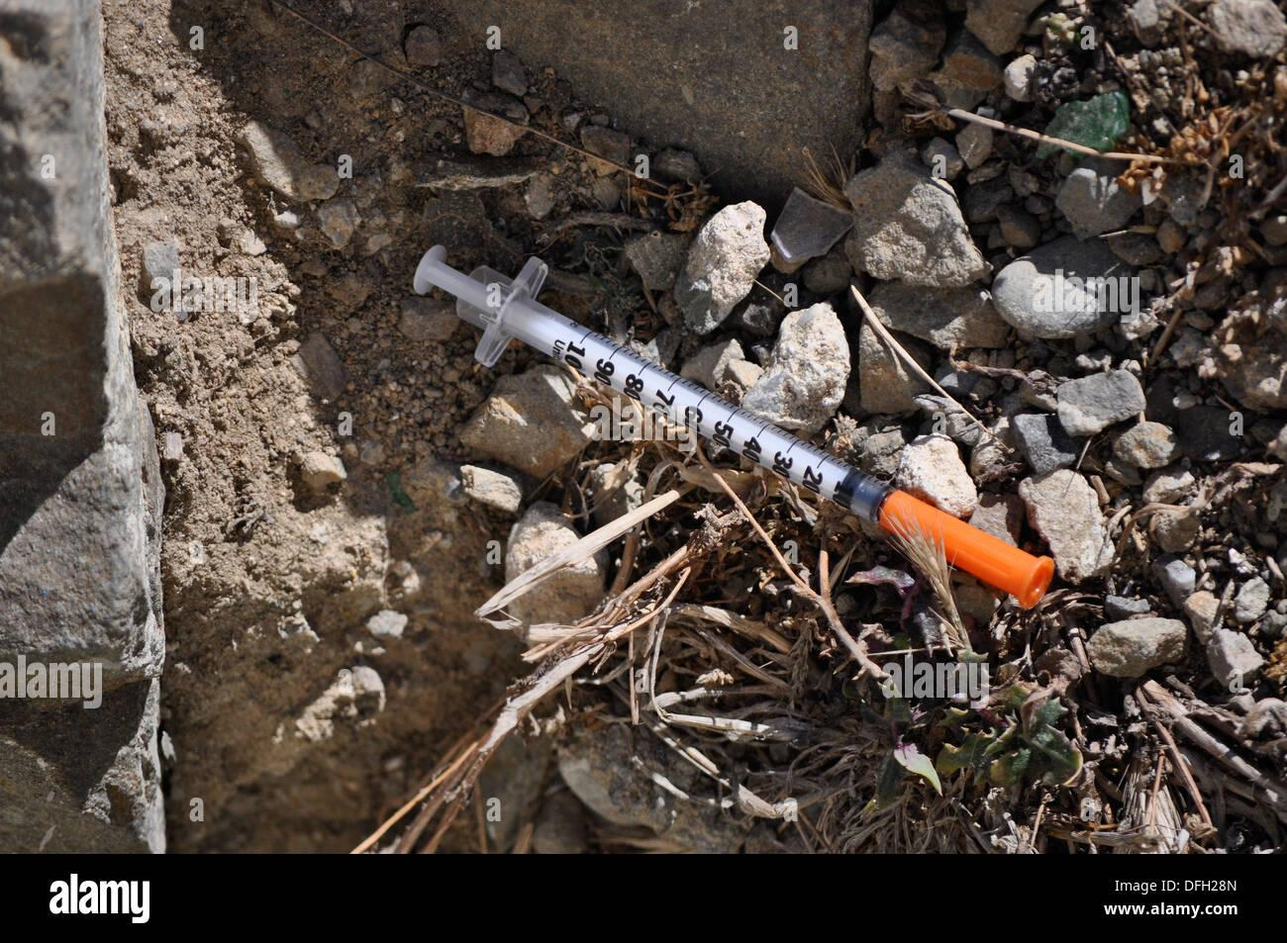Syringe: (415, 246, 1053, 607)
